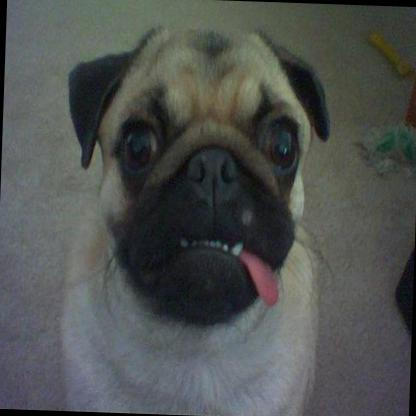pug: (58, 17, 330, 416)
